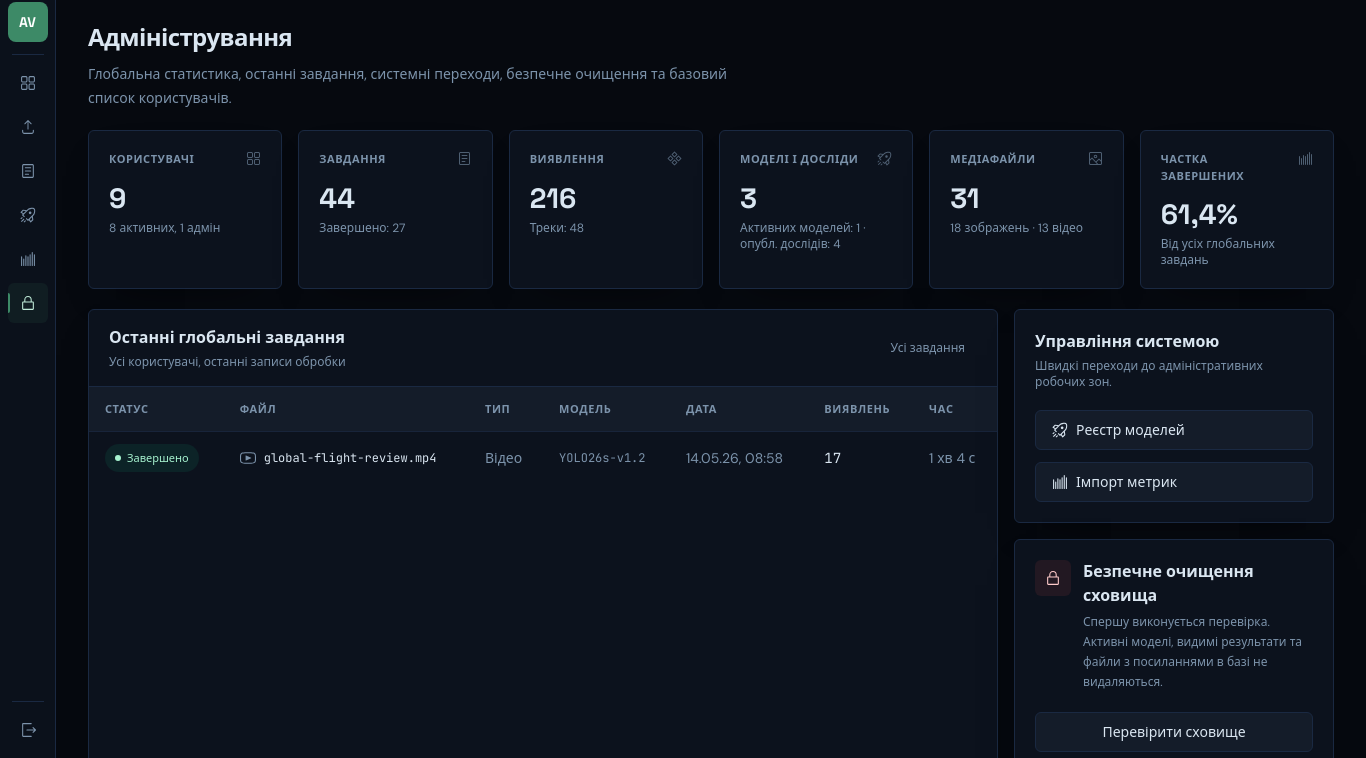
Test: Phase 30 admin page › previews cleanup before allowing confirmed cleanup
Expected: the heading "Адміністрування" is shown, [88,22,292,53]
Step 1. Click the button "Перевірити сховище" → (1174, 732), box [1035,712,1313,752]
(page scrolled)
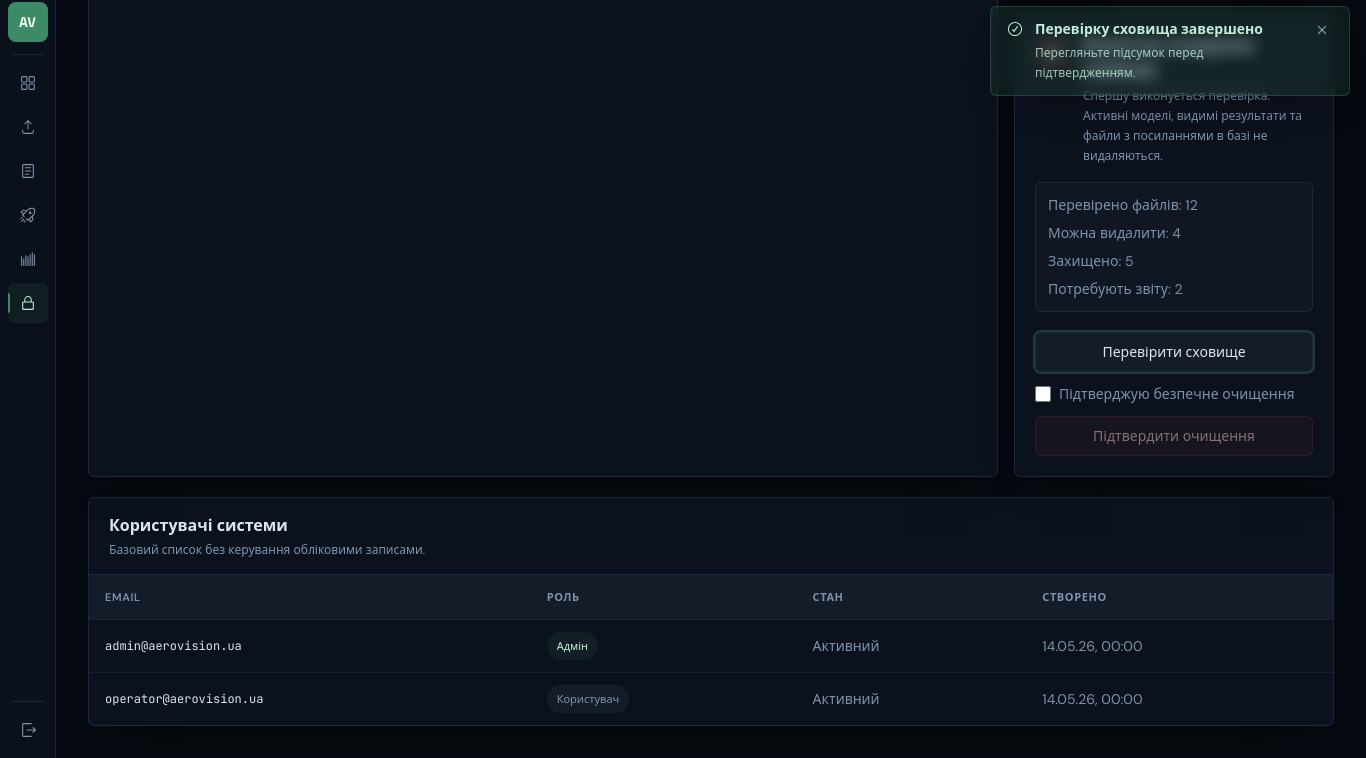
Expected: the text "Можна видалити: 4" is shown, [1048,223,1181,243]
Expected: the text "Перевірку сховища завершено" is shown, [1035,19,1299,39]
Step 2. Click the checkbox labelled "Підтверджую безпечне очищення" → (1043, 394), box [1035,386,1051,402]
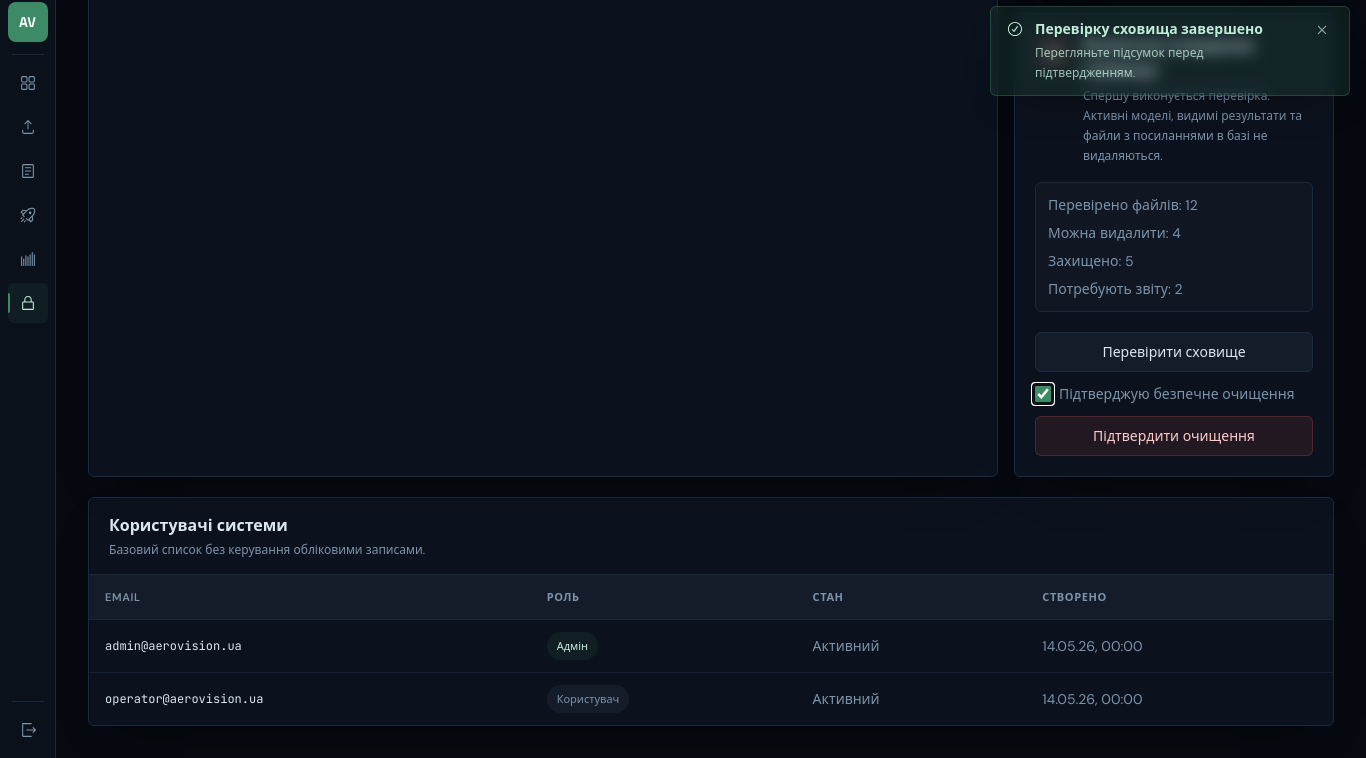
Step 3. Click the button "Підтвердити очищення" → (1174, 436), box [1035,416,1313,456]
(page scrolled)
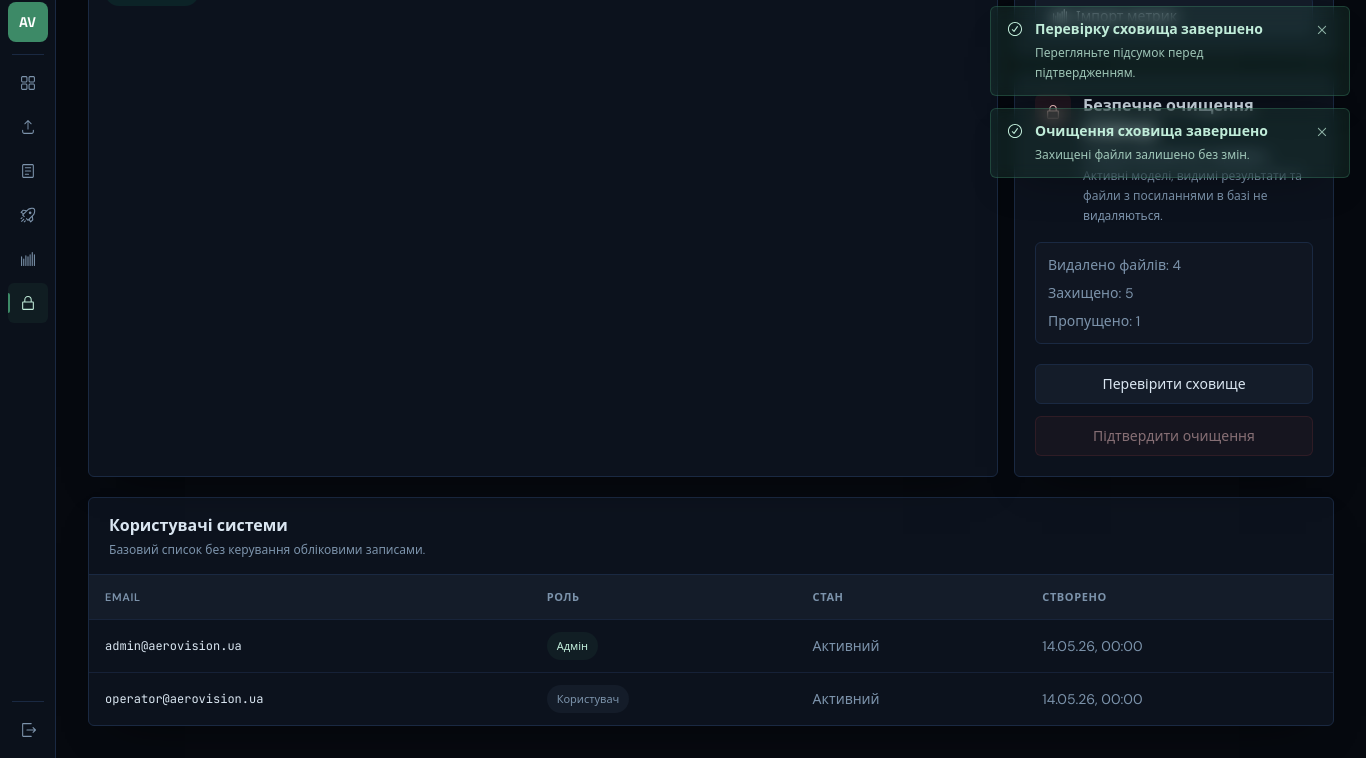
Expected: the text "Видалено файлів: 4" is shown, [1048,255,1181,275]
